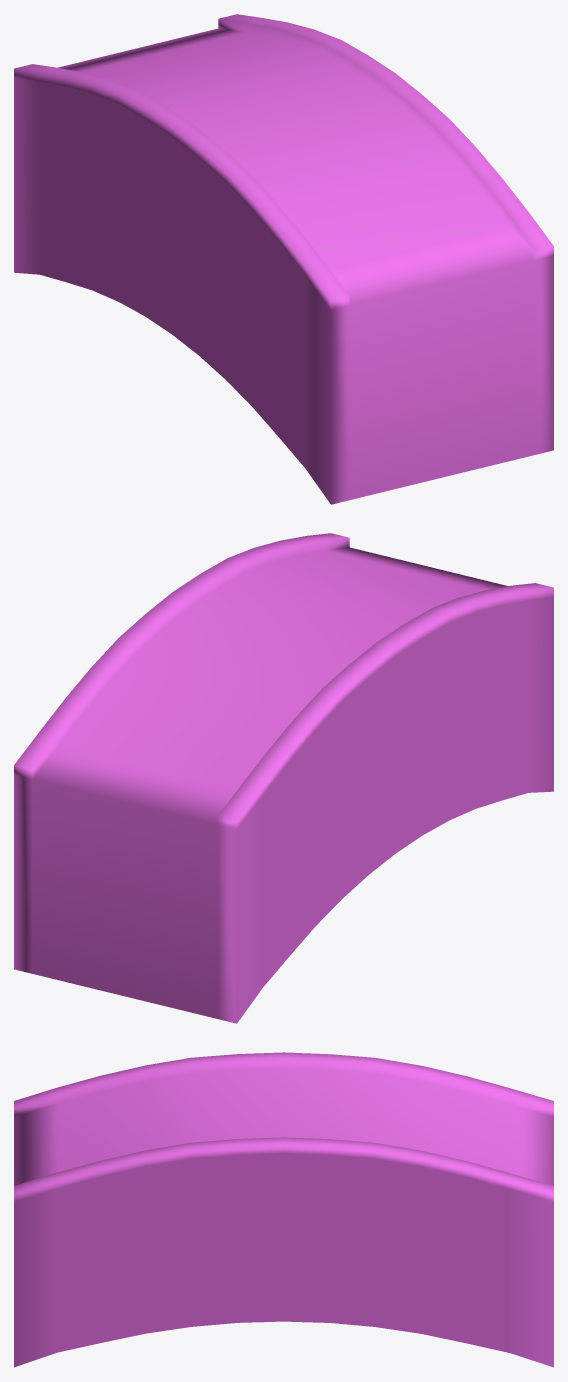
File: RD_Hump_Bridge1_Mid1.fbx
3 renders of one model, top to bottom at view 1: azimuth 30°, elevation 25°; view 2: azimuth 150°, elevation 25°; view 3: azimuth 270°, elevation 25°, orthographic. The views are drawn at different scales.
Parts seen in each view (by area): view 1: Mesh; view 2: Mesh; view 3: Mesh.
Boxes of the visible parts, x1,y1,x2,y2 form: Mesh: (14, 14, 553, 504); Mesh: (14, 533, 553, 1023); Mesh: (14, 1052, 553, 1367).
Bounding box in the file's own units: 480 × 537 × 1182.
